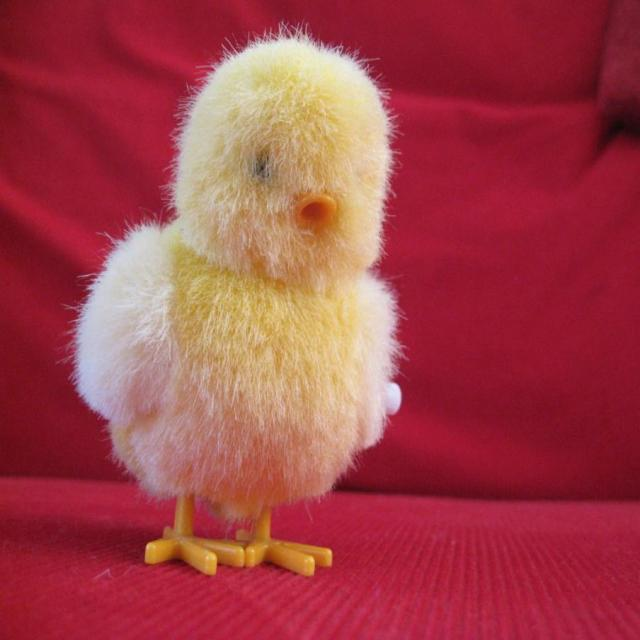Chicken: (68, 21, 401, 572)
